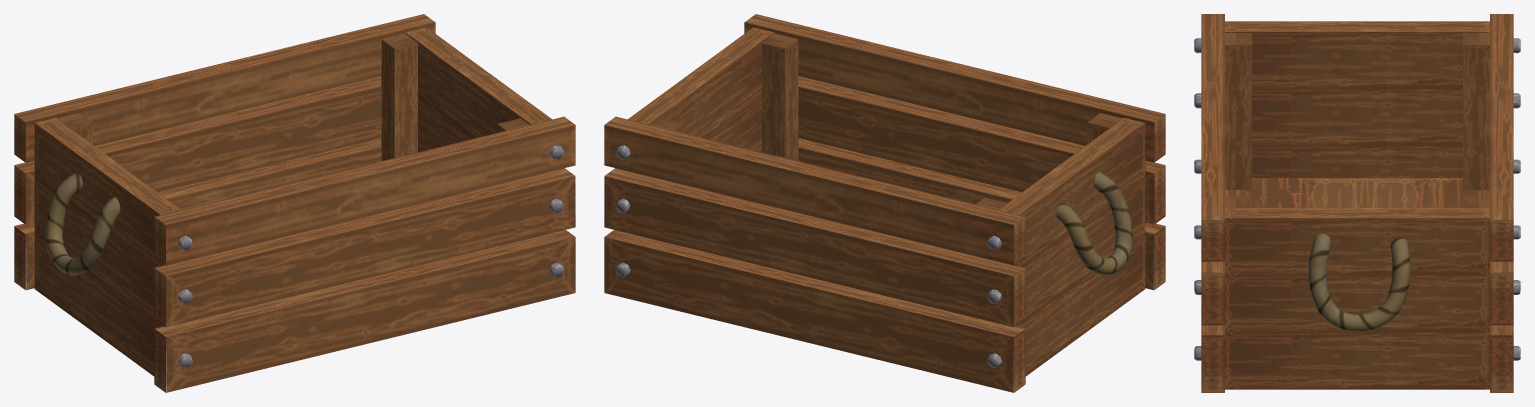
File: farmcrate_empty.gltf
The picture shows the model from 3 angles, left to right: view 1: azimuth 30°, elevation 25°; view 2: azimuth 150°, elevation 25°; view 3: azimuth 270°, elevation 25°; orthographic projection. The views are drawn at different scales.
Parts seen in each view (by area): view 1: FarmCrate_Empty; view 2: FarmCrate_Empty; view 3: FarmCrate_Empty.
Boxes of the visible parts, x1,y1,x2,y2 form: FarmCrate_Empty: [14, 14, 575, 392]; FarmCrate_Empty: [604, 14, 1165, 392]; FarmCrate_Empty: [1194, 14, 1520, 392].
Bounding box in the file's own units: 0.7138 × 0.2438 × 0.4142.
2 materials, 2 textured.
